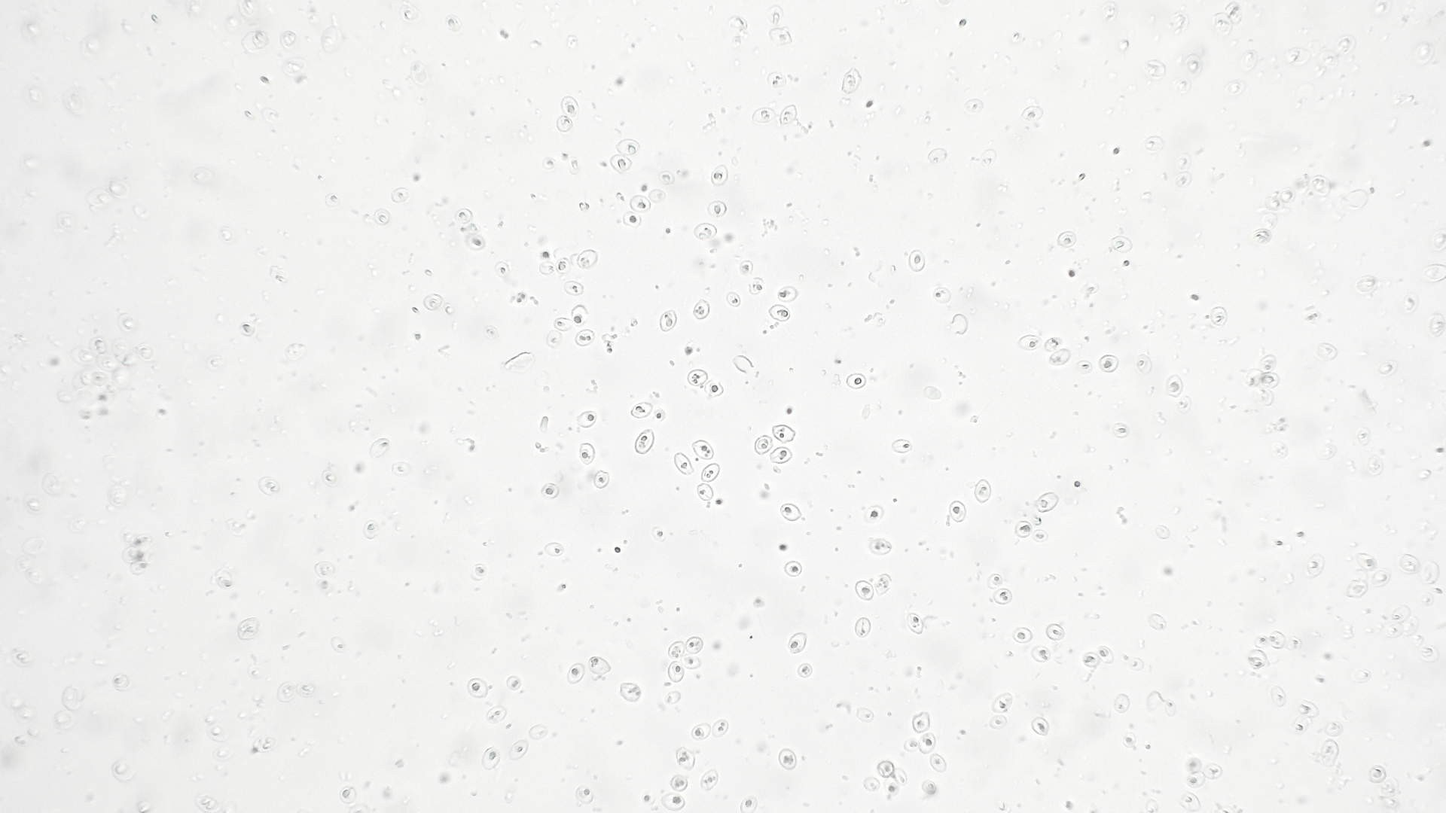yeasy: (230, 617, 269, 642), (108, 755, 137, 786), (1031, 489, 1061, 516), (777, 500, 807, 525), (240, 31, 273, 53), (117, 547, 156, 565), (586, 653, 614, 678), (1395, 550, 1421, 576), (632, 429, 657, 456), (689, 437, 717, 461), (671, 449, 694, 478), (280, 56, 310, 78), (1108, 233, 1136, 256), (972, 475, 992, 507), (766, 26, 795, 48), (1351, 275, 1380, 297), (367, 436, 392, 461), (570, 302, 594, 328), (673, 746, 697, 772), (256, 474, 282, 498), (618, 681, 645, 704), (771, 424, 800, 445), (840, 65, 861, 94), (397, 5, 426, 26), (123, 531, 155, 550), (852, 577, 876, 602), (748, 106, 778, 126), (783, 631, 807, 656), (908, 710, 932, 735), (776, 746, 798, 773), (480, 744, 502, 771), (1304, 553, 1326, 580), (865, 536, 893, 557), (1371, 358, 1399, 379), (1221, 78, 1249, 99), (1016, 102, 1045, 122), (990, 691, 1015, 714), (1055, 227, 1080, 250), (1046, 347, 1072, 369), (615, 138, 645, 157), (844, 370, 871, 391), (948, 498, 969, 525), (905, 248, 926, 275), (691, 221, 718, 242), (776, 100, 797, 127), (1210, 11, 1231, 38), (627, 193, 655, 213), (467, 677, 491, 700), (767, 303, 796, 322), (708, 163, 730, 188), (904, 611, 926, 636), (572, 784, 597, 806), (507, 738, 529, 763), (860, 504, 886, 525), (1266, 682, 1287, 708), (1182, 54, 1203, 80), (577, 439, 596, 467), (576, 248, 599, 271), (371, 206, 394, 229), (850, 617, 874, 639), (389, 184, 413, 206), (699, 461, 724, 482), (629, 400, 654, 421), (607, 154, 632, 175), (924, 145, 949, 166), (462, 231, 487, 252), (1243, 650, 1268, 671), (1355, 550, 1380, 571), (541, 539, 567, 559), (1347, 665, 1373, 685), (769, 445, 796, 464), (658, 793, 688, 810), (782, 558, 805, 580), (927, 752, 950, 774), (1365, 454, 1387, 477), (665, 660, 686, 684), (444, 11, 465, 35), (573, 327, 598, 347), (705, 199, 730, 219), (560, 277, 585, 297), (699, 768, 719, 793), (1133, 351, 1153, 376), (129, 559, 154, 579), (1313, 343, 1339, 362), (1344, 580, 1370, 599), (921, 385, 948, 403), (1178, 790, 1200, 812), (1317, 48, 1339, 70), (558, 96, 581, 117), (540, 480, 563, 501), (1029, 716, 1052, 737), (1013, 518, 1033, 542), (1145, 612, 1169, 632), (1014, 334, 1042, 351), (656, 311, 681, 330), (421, 293, 446, 312), (990, 587, 1015, 606), (1112, 690, 1130, 716), (1296, 699, 1322, 717), (691, 298, 712, 320), (575, 410, 597, 431), (855, 705, 877, 726), (1045, 621, 1067, 642), (114, 312, 135, 334), (766, 70, 789, 90), (566, 662, 586, 685), (320, 466, 340, 489), (737, 793, 760, 813), (1209, 304, 1229, 327), (1098, 352, 1118, 375), (1164, 373, 1183, 397), (1141, 134, 1165, 153), (1170, 78, 1194, 97), (874, 572, 892, 597), (752, 434, 773, 455), (690, 722, 711, 743), (493, 260, 514, 281), (507, 288, 528, 309), (1185, 770, 1206, 791), (1268, 440, 1289, 461), (470, 562, 490, 584), (930, 286, 953, 305), (712, 717, 731, 740), (484, 705, 507, 724), (361, 517, 380, 540), (1170, 171, 1193, 190), (685, 369, 709, 387), (776, 285, 800, 303), (889, 437, 914, 454), (389, 460, 414, 477), (279, 29, 299, 50), (1094, 644, 1115, 664), (875, 758, 896, 778), (1368, 763, 1388, 784), (621, 210, 644, 228), (668, 775, 691, 793), (1010, 626, 1033, 644), (1317, 443, 1340, 461), (961, 97, 985, 114), (593, 468, 610, 492), (1402, 291, 1419, 315), (337, 786, 357, 806), (1153, 522, 1173, 542), (704, 379, 725, 398), (694, 482, 713, 503), (554, 115, 575, 134), (685, 635, 704, 656), (795, 662, 816, 681), (1030, 644, 1051, 663), (1081, 649, 1100, 670), (1203, 760, 1222, 781), (1268, 629, 1287, 650), (328, 635, 347, 656), (920, 732, 938, 754), (1370, 570, 1392, 588), (535, 260, 558, 277), (1258, 370, 1281, 387), (551, 315, 575, 331), (987, 713, 1007, 732), (724, 291, 745, 309), (545, 330, 563, 351), (666, 641, 687, 659), (1173, 151, 1191, 172), (1119, 731, 1138, 750), (648, 525, 666, 545), (661, 690, 682, 707), (885, 777, 902, 798), (1109, 422, 1130, 439), (1356, 425, 1372, 447), (679, 656, 704, 670), (901, 736, 920, 754), (862, 775, 881, 793), (529, 723, 548, 741), (456, 208, 474, 227), (919, 779, 939, 796), (1390, 604, 1410, 621), (1324, 720, 1342, 738), (891, 769, 910, 786), (1419, 590, 1435, 610), (655, 169, 676, 184), (737, 260, 755, 277), (554, 257, 571, 275), (1033, 528, 1050, 545), (538, 156, 557, 171), (653, 408, 668, 426), (483, 324, 499, 340), (506, 674, 519, 692), (640, 792, 656, 805)
